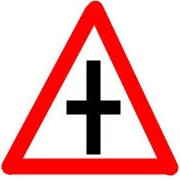Fork_road: (1, 1, 180, 179)
